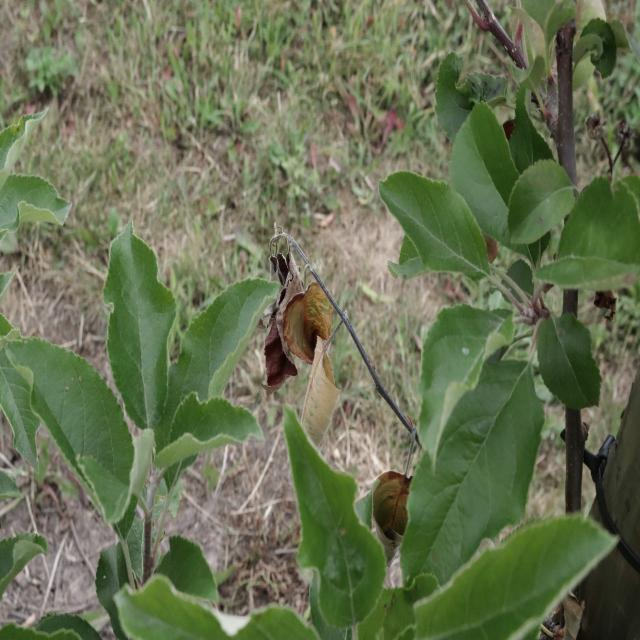-FireBlight-: (262, 232, 332, 376)
